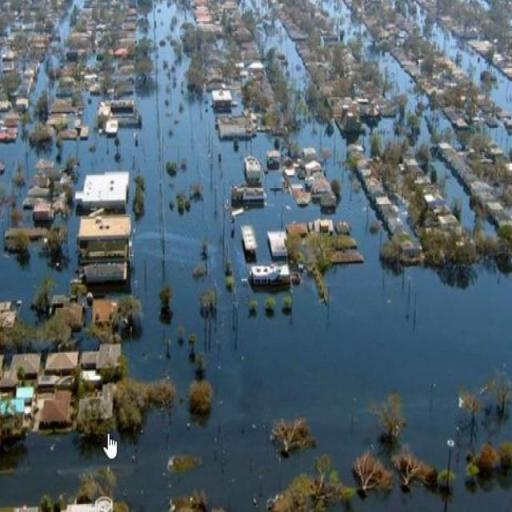flood: (0, 0, 512, 512), (339, 51, 422, 156), (429, 22, 512, 112), (238, 0, 310, 92), (432, 158, 498, 236), (314, 0, 368, 39), (487, 121, 512, 152), (417, 106, 432, 148), (428, 109, 451, 134), (410, 7, 425, 32), (425, 96, 428, 104)
house: (78, 210, 133, 285), (241, 222, 297, 284), (78, 170, 132, 212), (420, 202, 466, 249), (36, 386, 74, 428), (104, 99, 139, 136), (210, 86, 240, 118), (231, 184, 266, 210), (308, 171, 334, 206), (45, 350, 78, 376), (10, 350, 38, 376), (98, 344, 120, 370), (244, 154, 262, 178), (32, 202, 56, 220)
